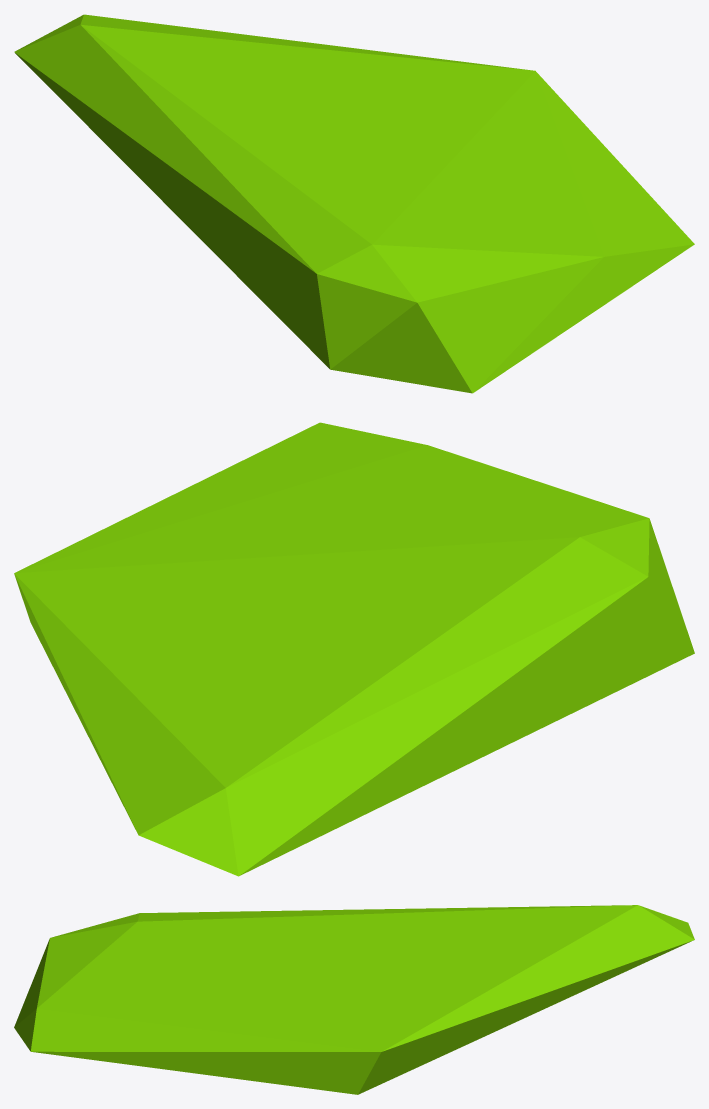
File: torso_convex_piece_024.obj
3 renders of one model, top to bottom at view 1: azimuth 30°, elevation 25°; view 2: azimuth 150°, elevation 25°; view 3: azimuth 270°, elevation 25°, orthographic. The views are drawn at different scales.
Bounding box in the file's own units: 0.0924 × 0.0288 × 0.1679.
